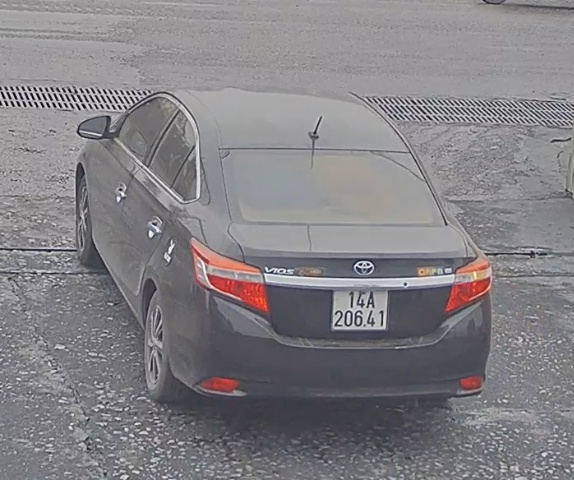vehicle plate: (328, 278, 390, 334)
